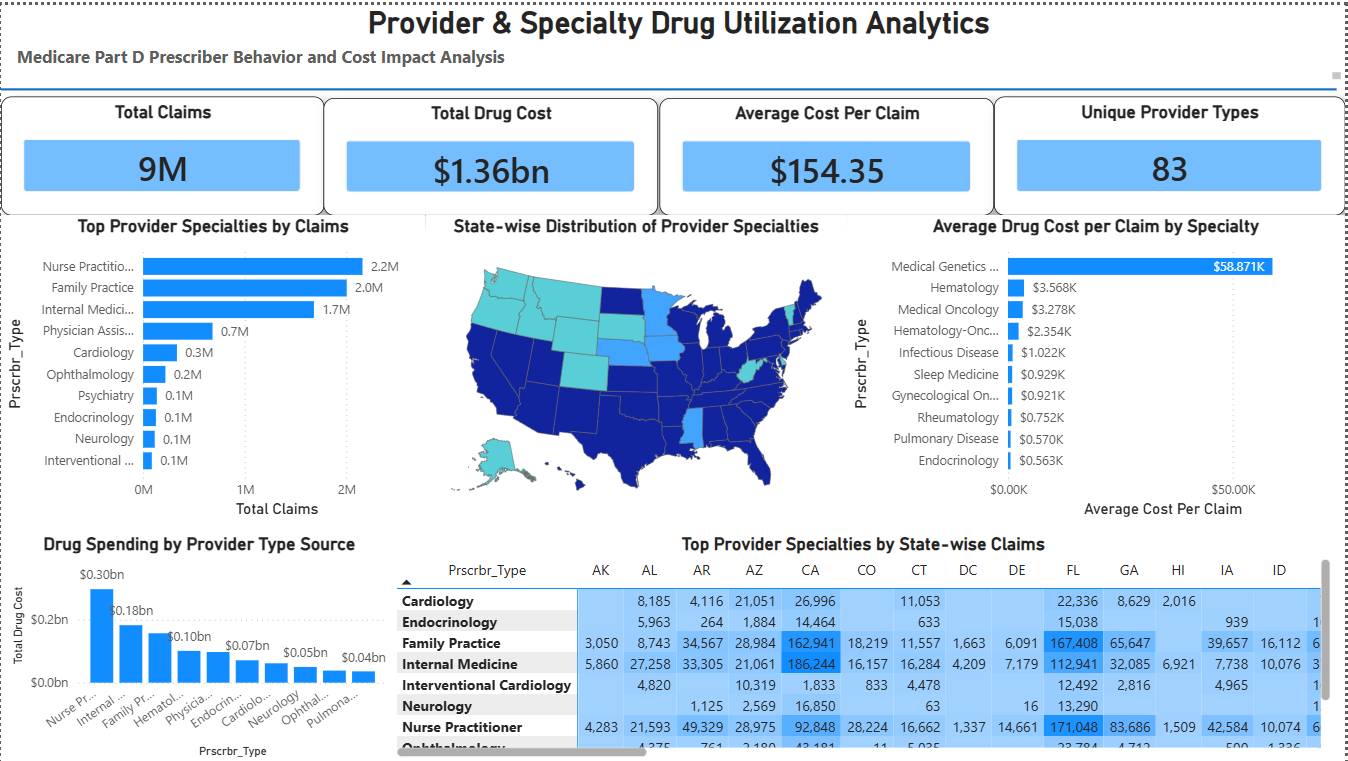

The dashboard page shown, as its layout file describes it:
{"tool":"powerbi","page":{"name":"Page 3","canvas":[1280,720],"ordinal":2},"visuals":[{"type":"textbox","title":"Provider & Specialty Drug Utilization Analytics","box":[9.3,0,1270.2,69.8],"z":0},{"type":"shape","box":[0,63.5,1268.8,13.9],"z":1000},{"type":"cardVisual","title":"Total Claims","fields":{"Data":["clean_medicare_partd.Total Claims"]},"box":[0,76.9,317.6,102.1],"z":2000},{"type":"cardVisual","title":"Total Drug Cost","fields":{"Data":["clean_medicare_partd.Total Drug Cost"]},"box":[321.8,76.9,317.6,102.1],"z":3000},{"type":"cardVisual","title":"Average Cost Per Claim","fields":{"Data":["clean_medicare_partd.Average Cost Per Claim"]},"box":[643.5,76.9,312,102.1],"z":4000},{"type":"cardVisual","title":"Unique Provider Type","fields":{"Data":["clean_medicare_partd.Unique Provider Type"]},"box":[962.5,76.9,306.4,102.1],"z":5000},{"type":"clusteredBarChart","title":"Top Provider Specialities by Claims","fields":{"Category":["clean_medicare_partd.Prscrbr_Type"],"Y":["clean_medicare_partd.Total Claims"]},"box":[0,180.5,411.3,270],"z":6000},{"type":"shapeMap","title":"State - wise Distribution of Provider Specialities","fields":{"Category":["clean_medicare_partd.Prscrbr_State_Abrvtn"],"Series":["clean_medicare_partd.Prscrbr_Type"],"Value":["clean_medicare_partd.Total Claims"]},"box":[411.3,180.5,418.3,251.8],"z":7000},{"type":"clusteredBarChart","title":"Average Cost Per Claim by Specialty","fields":{"Category":["clean_medicare_partd.Prscrbr_Type"],"Y":["clean_medicare_partd.Average Cost Per Claim"]},"box":[829.6,180.5,439.3,251.8],"z":8000},{"type":"clusteredColumnChart","title":"Drug Spending by Provider Type Source","fields":{"Category":["clean_medicare_partd.Prscrbr_Type"],"Y":["clean_medicare_partd.Total Drug Cost"]},"box":[0,450.5,411.3,270],"z":9000},{"type":"pivotTable","title":"Top Provider Specialities by State - wise Claims","fields":{"Rows":["clean_medicare_partd.Prscrbr_Type"],"Columns":["clean_medicare_partd.Prscrbr_State_Abrvtn"],"Values":["clean_medicare_partd.Total Claims"]},"box":[411.3,450.5,857.6,270],"z":10000}]}

Visuals, with their boxes in screenshot pixels (x1, y1, x2, y2), scaled from the page's 1280x720 canvas onto the 1348x761 screenshot:
"Provider & Specialty Drug Utilization Analytics" textbox: box=[10, 0, 1347, 74]
shape: box=[0, 67, 1336, 82]
"Total Claims" cardVisual: box=[0, 81, 334, 189]
"Total Drug Cost" cardVisual: box=[339, 81, 673, 189]
"Average Cost Per Claim" cardVisual: box=[678, 81, 1006, 189]
"Unique Provider Type" cardVisual: box=[1014, 81, 1336, 189]
"Top Provider Specialities by Claims" clusteredBarChart: box=[0, 191, 433, 476]
"State - wise Distribution of Provider Specialities" shapeMap: box=[433, 191, 874, 457]
"Average Cost Per Claim by Specialty" clusteredBarChart: box=[874, 191, 1336, 457]
"Drug Spending by Provider Type Source" clusteredColumnChart: box=[0, 476, 433, 760]
"Top Provider Specialities by State - wise Claims" pivotTable: box=[433, 476, 1336, 760]
